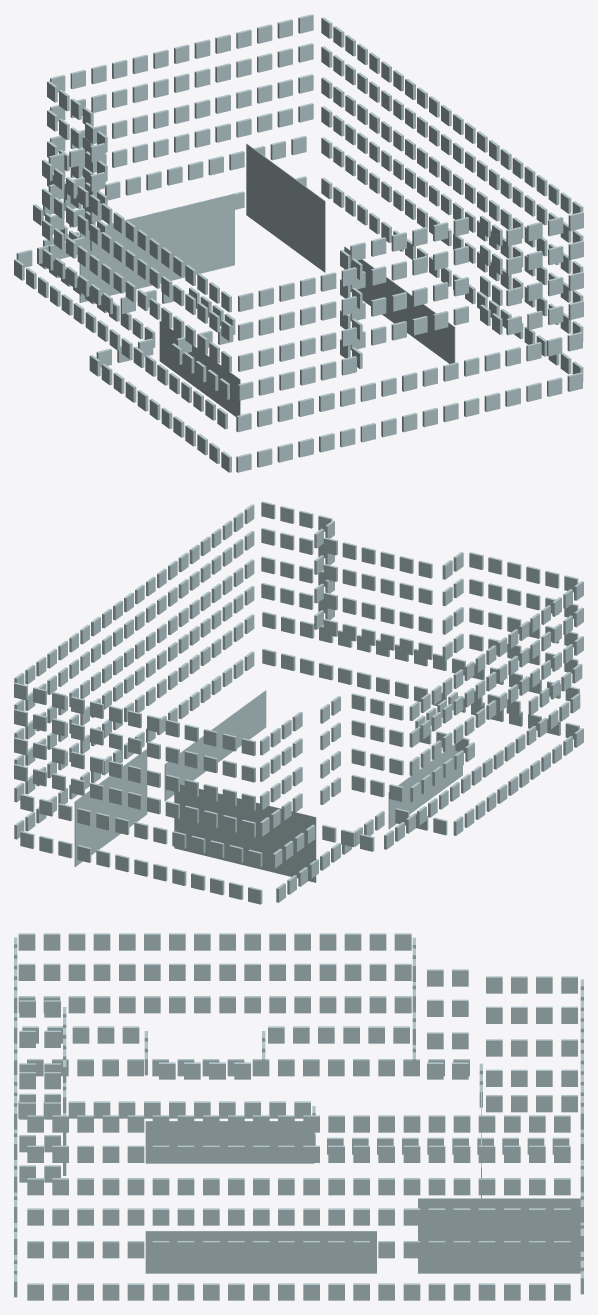
The model's file is SM_Glass_Helgasetr_Fasade.fbx.
The picture shows the model from 3 angles, top to bottom: view 1: azimuth 30°, elevation 25°; view 2: azimuth 150°, elevation 25°; view 3: azimuth 270°, elevation 25°; orthographic projection. The views are drawn at different scales.
Visible parts, largest first — view 1: SM_Glass_Helgasetr_Fasade; view 2: SM_Glass_Helgasetr_Fasade; view 3: SM_Glass_Helgasetr_Fasade.
Boxes of the visible parts, x1=… form: SM_Glass_Helgasetr_Fasade: x1=14, y1=14, x2=583, y2=472; SM_Glass_Helgasetr_Fasade: x1=14, y1=501, x2=583, y2=904; SM_Glass_Helgasetr_Fasade: x1=14, y1=933, x2=583, y2=1300.
Size of the model in its own units: 68.17 by 51.9 by 25.55.
